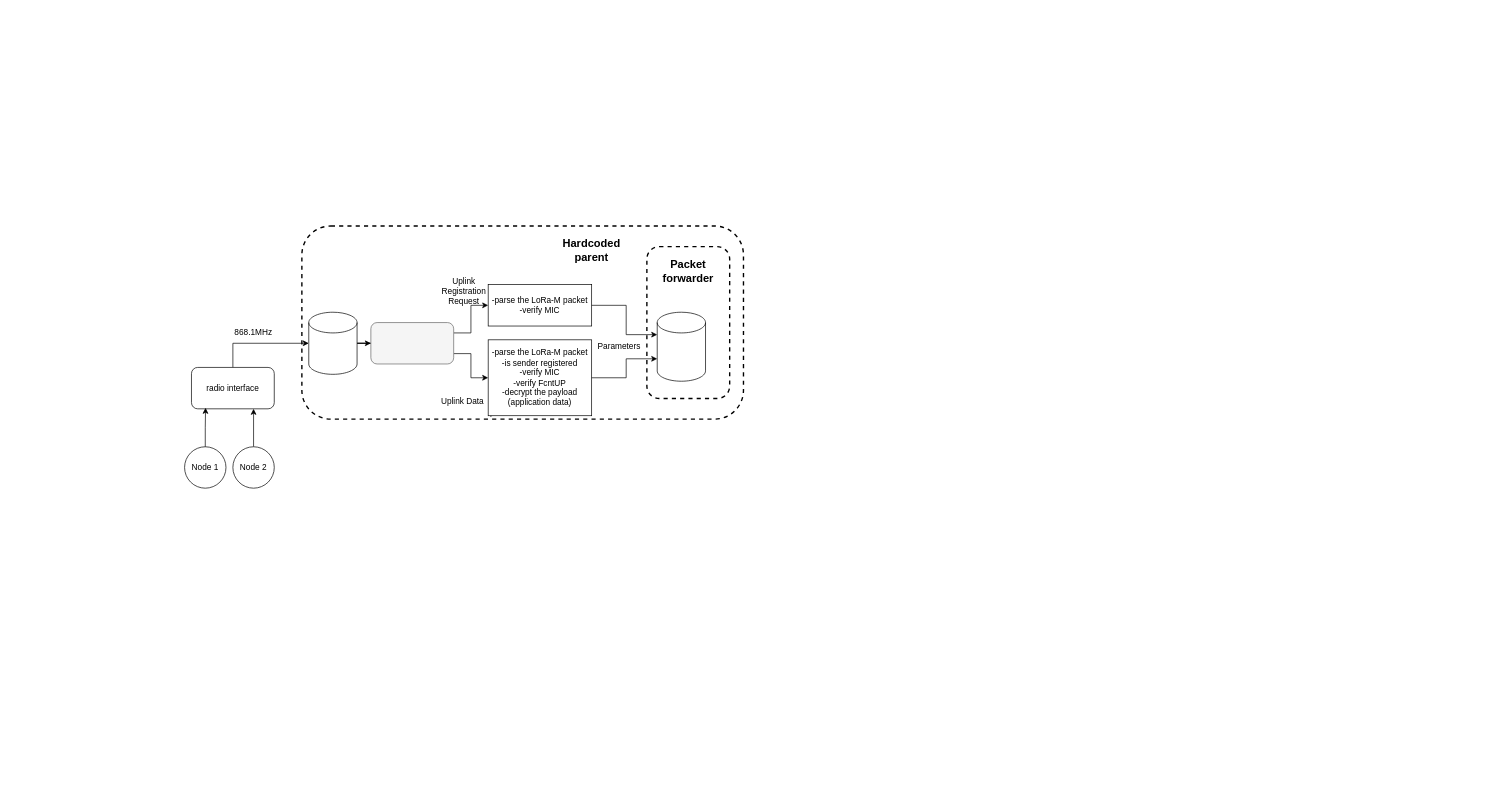
Image size: 1493x796. Some labels were removed from this diagram. The shapes that lost their labels are listed below. From the top down, each one's box as (x1, y1, x2, y2) in pixels, then its label:
(308, 312, 357, 374): NETWORK INPUT QUEUE
(370, 322, 454, 364): dataQueueCheck
(657, 312, 706, 381): NETWORK SERVER INPUT QUEUE
